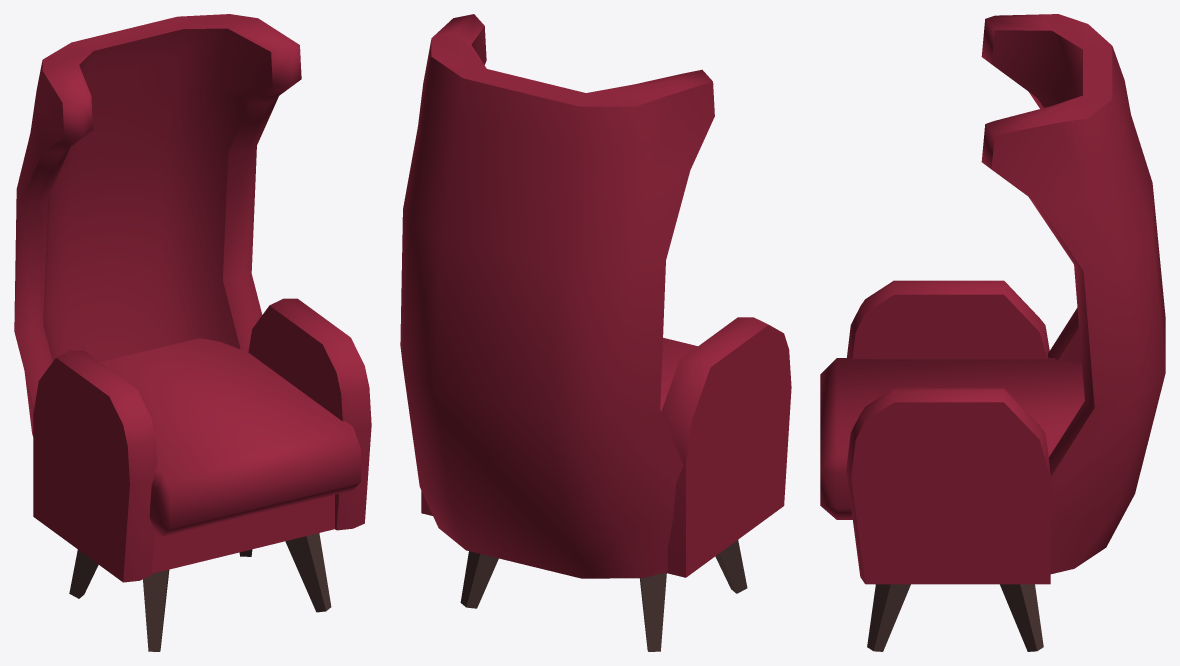
The model's file is Bedroom_Chair.fbx.
3 renders of one model, left to right at view 1: azimuth 30°, elevation 25°; view 2: azimuth 150°, elevation 25°; view 3: azimuth 270°, elevation 25°, orthographic. The views are drawn at different scales.
Visible parts, largest first — view 1: Bedroom_Chair; view 2: Bedroom_Chair; view 3: Bedroom_Chair.
Boxes of the visible parts, left/top/right/bottom form: Bedroom_Chair: left=14, top=14, right=371, bottom=651; Bedroom_Chair: left=400, top=14, right=791, bottom=651; Bedroom_Chair: left=820, top=14, right=1165, bottom=651.
Size of the model in its own units: 0.793 by 1.65 by 0.9499.
